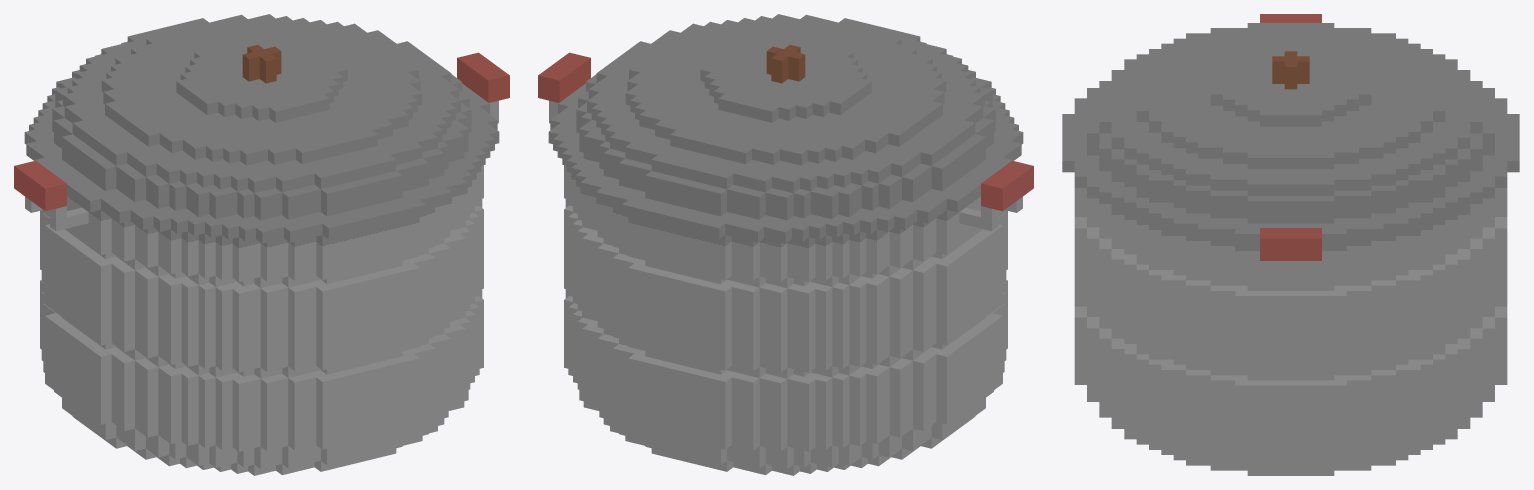
3 views of the same model, side by side, from view 1: azimuth 30°, elevation 25°; view 2: azimuth 150°, elevation 25°; view 3: azimuth 270°, elevation 25° (orthographic).
Visible parts, largest first — view 1: Object; view 2: Object; view 3: Object.
Boxes of the visible parts, box(x1,y1,x2,y2) form: Object: box(14, 14, 509, 475); Object: box(538, 14, 1033, 475); Object: box(1062, 14, 1519, 475).
Size of the model in its own units: 43 by 30 by 37.
1 material, 1 textured.
